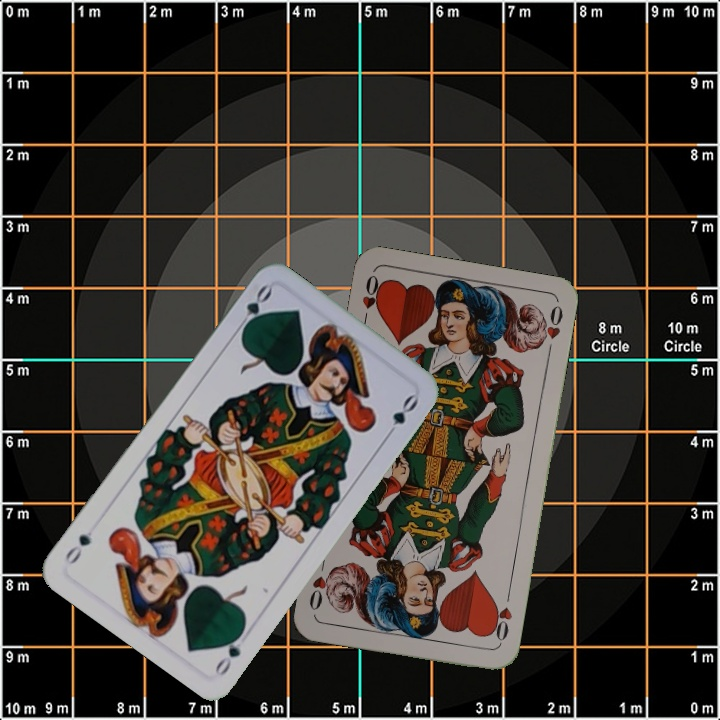GO: (232, 281, 275, 337), (210, 623, 248, 679)
HO: (486, 587, 515, 646), (358, 270, 384, 329)
